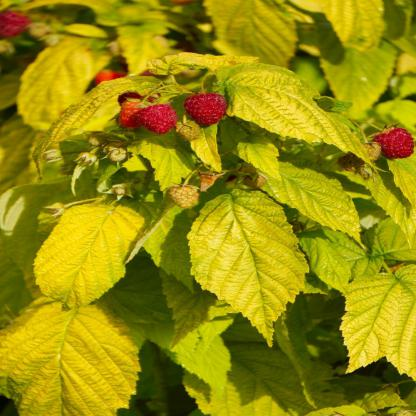raspberry leaf: (183, 184, 307, 347), (1, 295, 139, 416), (218, 66, 372, 160), (32, 196, 142, 313), (340, 264, 416, 379)
